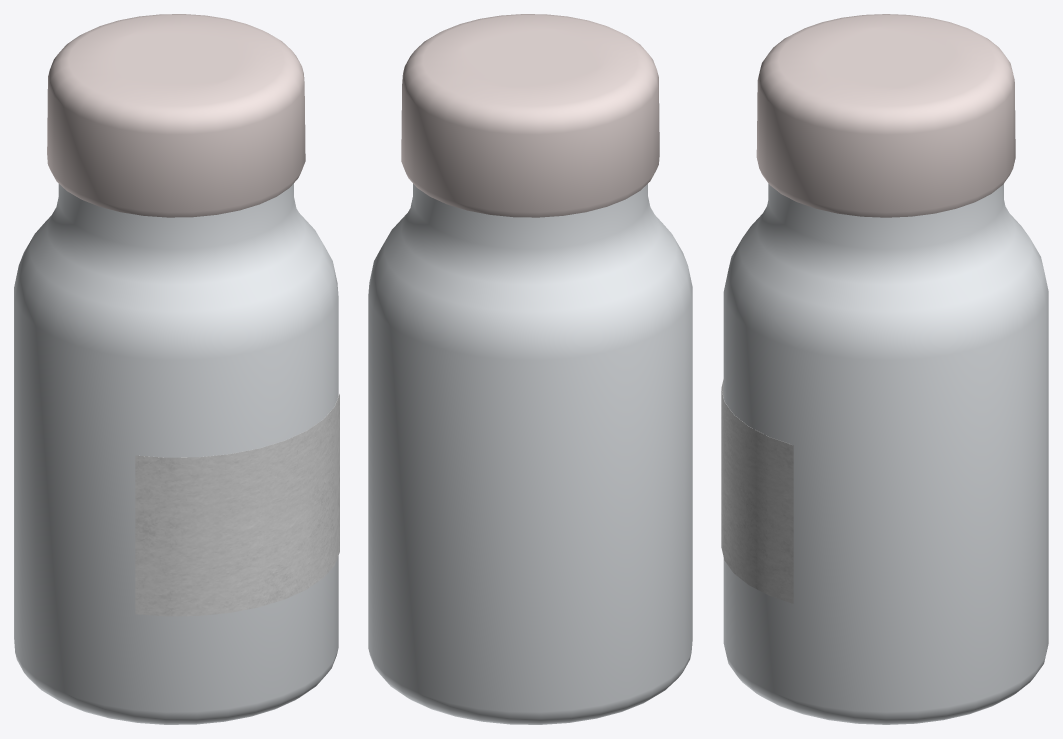
Rendered from Bottle.fbx.
3 renders of one model, left to right at view 1: azimuth 30°, elevation 25°; view 2: azimuth 150°, elevation 25°; view 3: azimuth 270°, elevation 25°, orthographic.
Visible parts, largest first — view 1: Bottle, Lid, Label; view 2: Bottle, Lid; view 3: Bottle, Lid, Label.
Part boxes in pixels (x1,y1,x2,y2): Bottle: (14, 183, 338, 724); Lid: (47, 14, 305, 217); Label: (135, 394, 339, 616); Bottle: (368, 184, 692, 724); Lid: (401, 14, 659, 217); Bottle: (723, 183, 1048, 724); Lid: (756, 14, 1015, 217); Label: (721, 379, 793, 603).
Bounding box in the file's own units: 15.39 × 31.62 × 15.51.
Materials: 4 (4 with a texture image).
